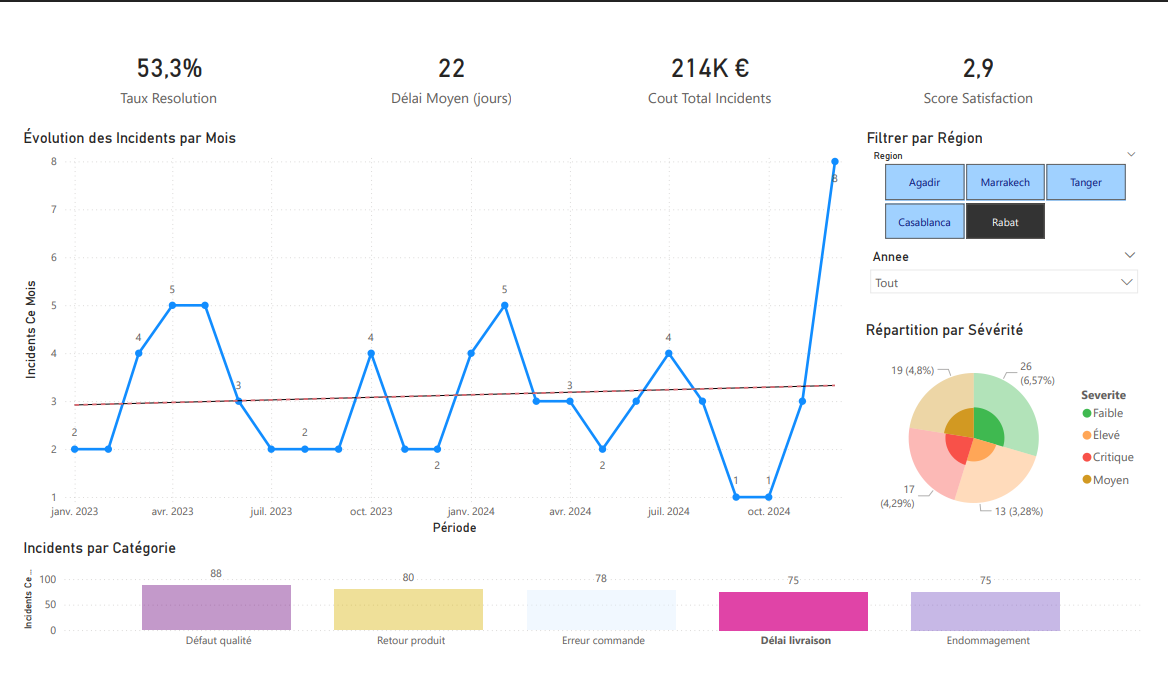

Layout of this report page (visuals, bound fields, positions):
{"tool":"powerbi","page":{"name":"Vue Globale","canvas":[1280,720],"ordinal":0},"visuals":[{"type":"card","fields":{"Values":["incidents_qualite.Taux Resolution"]},"box":[10,0,320,120],"z":0},{"type":"card","fields":{"Values":["incidents_qualite.Delai Moyen Resolution"]},"box":[330,0,322,120],"z":1000},{"type":"card","fields":{"Values":["incidents_qualite.Cout Total Incidents"]},"box":[624,0,320,120],"z":2000},{"type":"lineChart","title":"Évolution des Incidents par Mois","fields":{"Category":["Calendrier.Annee_Mois"],"Y":["incidents_qualite.Incidents Ce Mois"]},"box":[0,120,956,466],"z":3000},{"type":"card","fields":{"Values":["incidents_qualite.Score Satisfaction"]},"box":[928,0,322,120],"z":4000},{"type":"clusteredColumnChart","title":"Incidents par Catégorie","fields":{"Category":["incidents_qualite.Categorie"],"Y":["incidents_qualite.Incidents Ce Mois"]},"box":[0,586,1280,134],"z":5000},{"type":"pieChart","title":"Répartition par Sévérité","fields":{"Category":["incidents_qualite.Severite"],"Y":["incidents_qualite.Incidents Ce Mois"]},"box":[956,338,324,248],"z":6000},{"type":"slicer","title":"Filtrer par Région","fields":{"Values":["incidents_qualite.Region"]},"box":[956.7,120,323.3,131.7],"z":7000},{"type":"slicer","fields":{"Values":["Calendrier.Annee"]},"box":[956,252,324,86],"z":8000}]}

Visuals, with their boxes on the page's 1280x720 design canvas (x1, y1, x2, y2). These are canvas units, not pixel positions in the 1168x678 screenshot, which may show the page scaled, cropped or inside an application window:
card - incidents_qualite.Taux Resolution: 10,0,330,120
card - incidents_qualite.Delai Moyen Resolution: 330,0,652,120
card - incidents_qualite.Cout Total Incidents: 624,0,944,120
"Évolution des Incidents par Mois" lineChart: 0,120,956,586
card - incidents_qualite.Score Satisfaction: 928,0,1250,120
"Incidents par Catégorie" clusteredColumnChart: 0,586,1280,720
"Répartition par Sévérité" pieChart: 956,338,1280,586
"Filtrer par Région" slicer: 957,120,1280,252
slicer - Calendrier.Annee: 956,252,1280,338
